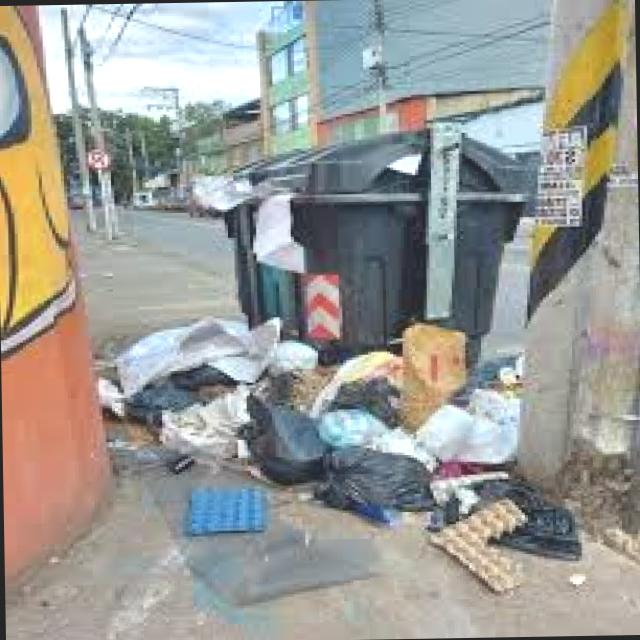garbage: (84, 112, 568, 600)
